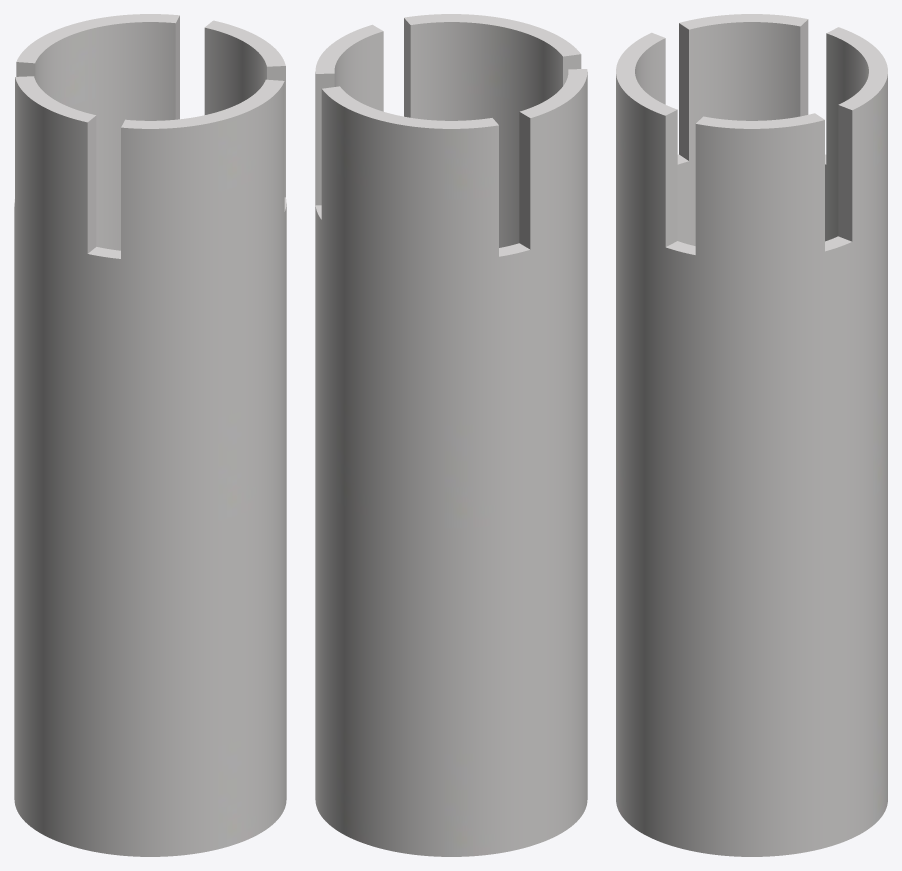
File: 06_vez_bila.glb
3 renders of one model, left to right at view 1: azimuth 30°, elevation 25°; view 2: azimuth 150°, elevation 25°; view 3: azimuth 270°, elevation 25°, orthographic.
Visible parts, largest first — view 1: 06_vez_bila; view 2: 06_vez_bila; view 3: 06_vez_bila.
Boxes of the visible parts, x1,y1,x2,y2 form: 06_vez_bila: (14, 14, 286, 856); 06_vez_bila: (315, 14, 587, 856); 06_vez_bila: (616, 14, 887, 856).
Bounding box in the file's own units: 0.03 × 0.0886 × 0.03.
1 material, 1 textured.
